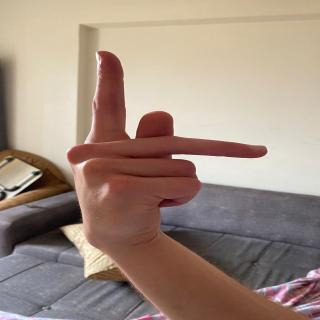DHAA: (62, 47, 276, 237)
